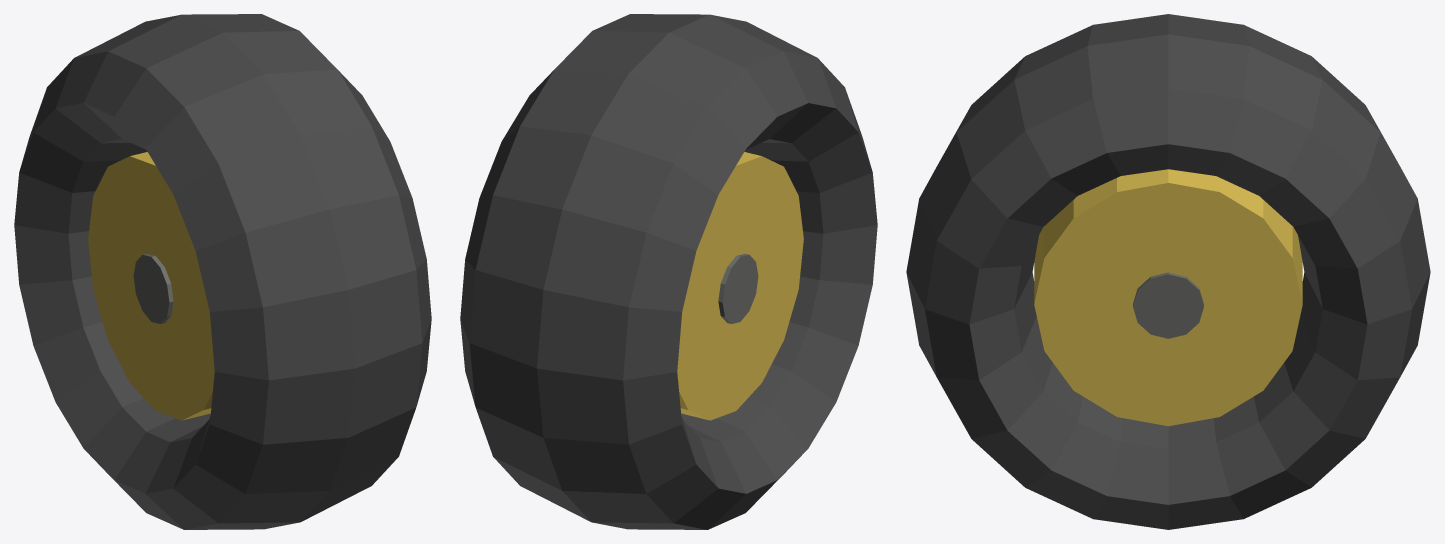
Rendered from jordan_197_wheel_front.glb.
The picture shows the model from 3 angles, left to right: view 1: azimuth 30°, elevation 25°; view 2: azimuth 150°, elevation 25°; view 3: azimuth 270°, elevation 25°; orthographic projection.
Parts seen in each view (by area): view 1: Jordan197_LOD0_Historical.glb; view 2: Jordan197_LOD0_Historical.glb; view 3: Jordan197_LOD0_Historical.glb.
Boxes of the visible parts, box(x1,y1,x2,y2) form: Jordan197_LOD0_Historical.glb: box(14, 14, 431, 529); Jordan197_LOD0_Historical.glb: box(460, 14, 877, 529); Jordan197_LOD0_Historical.glb: box(906, 14, 1430, 529).
Size of the model in its own units: 0.3075 by 0.648 by 0.648.
Materials: 1 (1 with a texture image).
